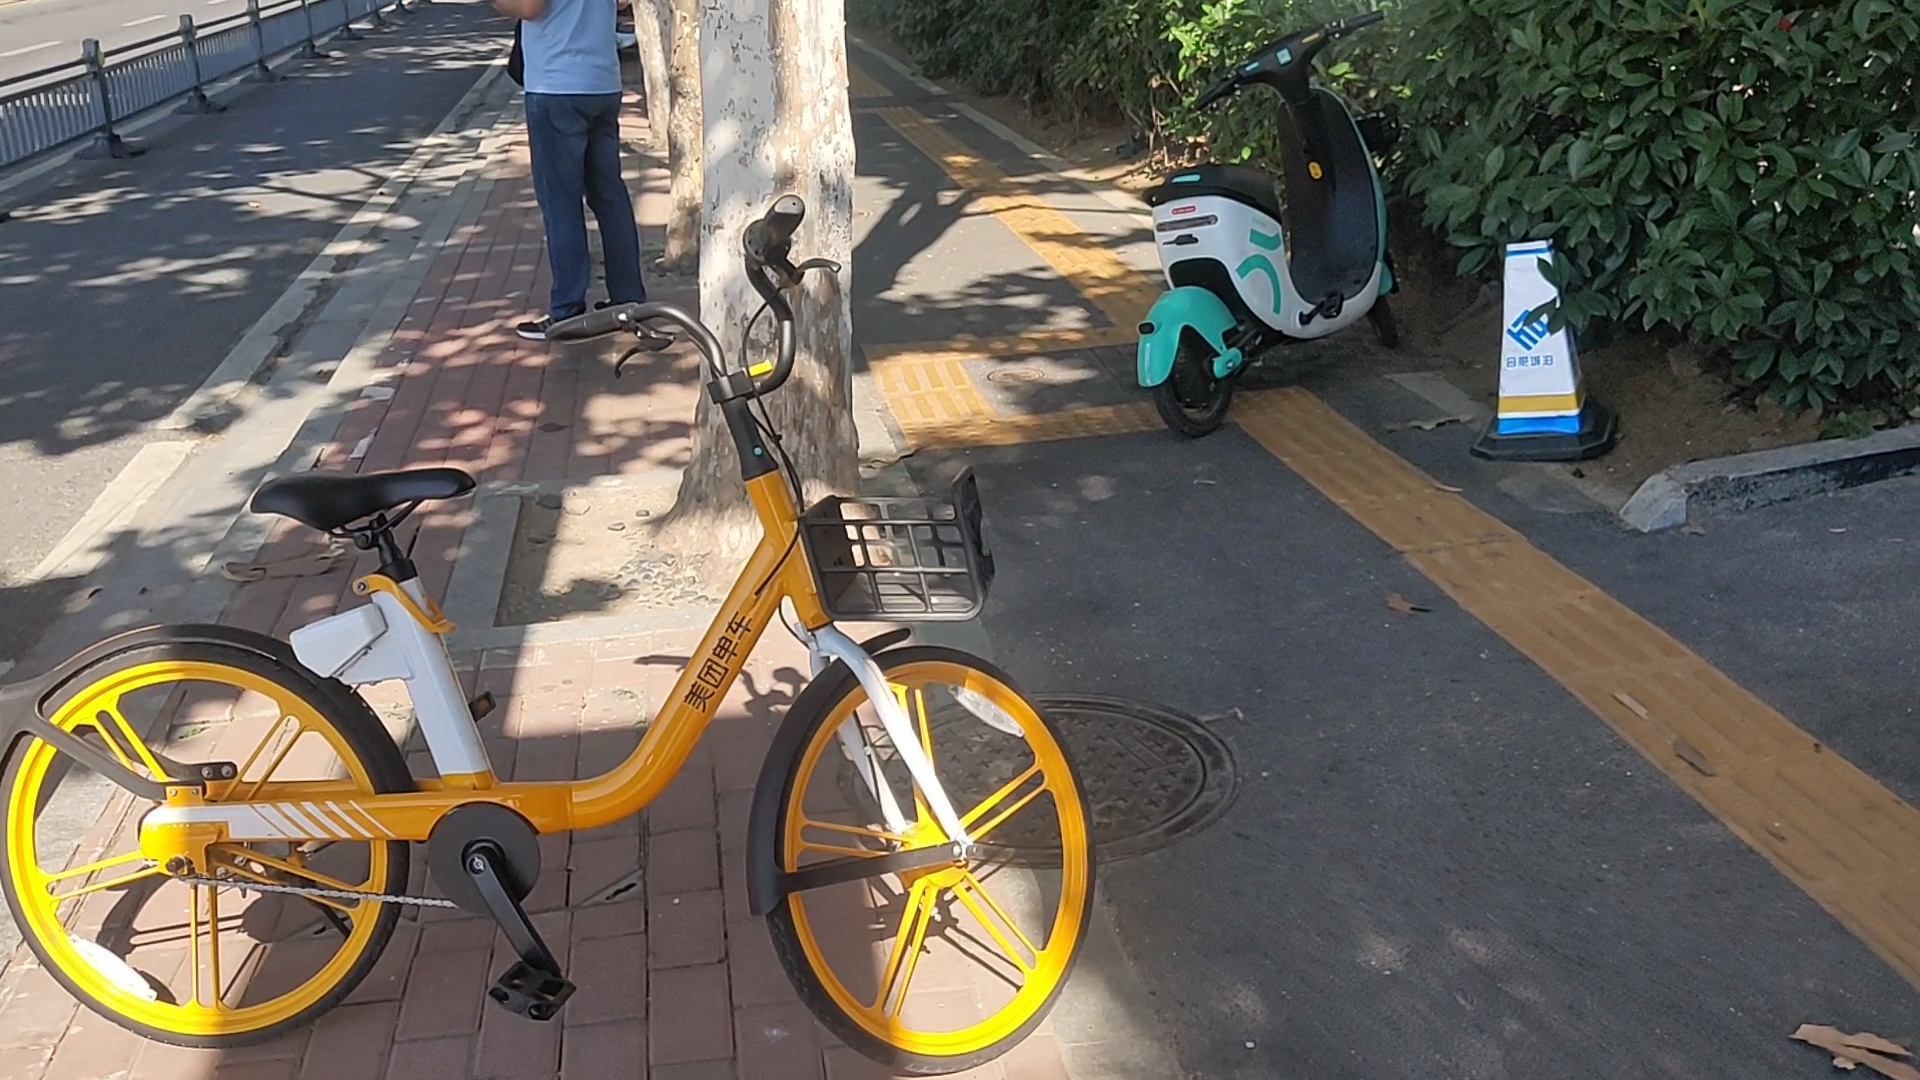non-vehicle: (11, 258, 1091, 1072), (1126, 4, 1403, 438)
